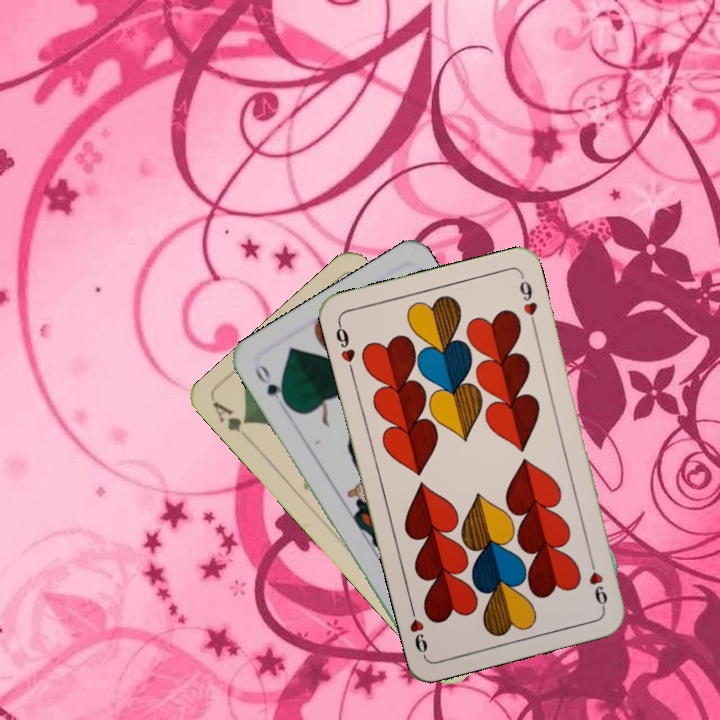GA: (209, 398, 253, 435)
GO: (250, 360, 292, 410)
H9: (331, 318, 358, 376), (584, 553, 610, 611)
